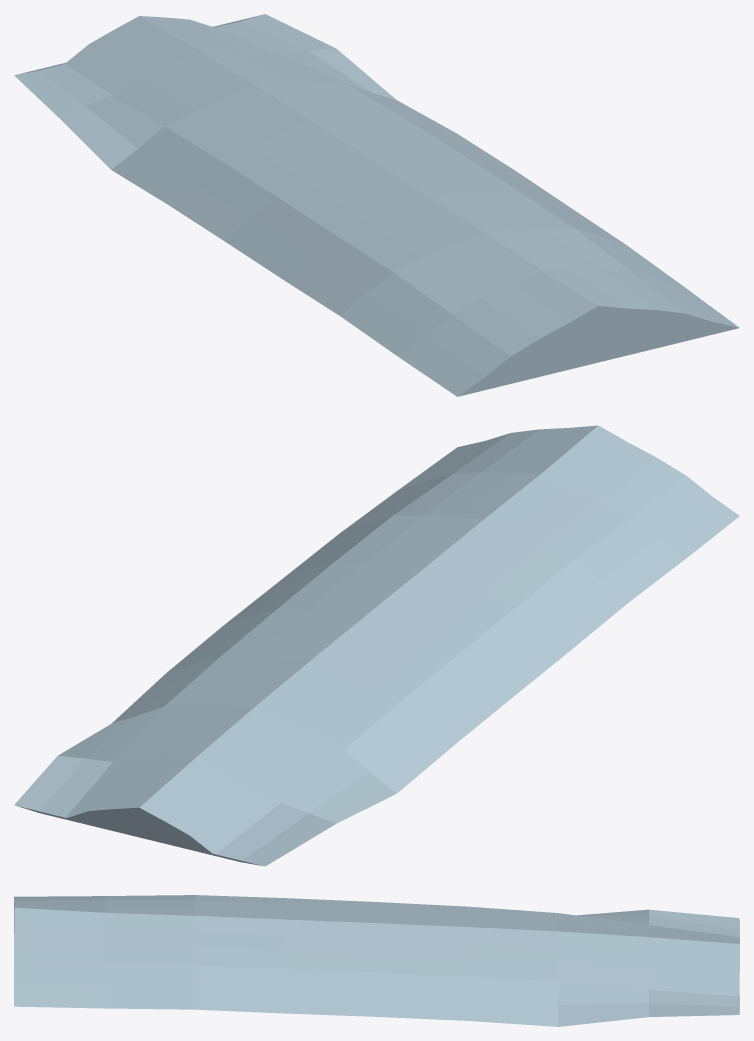
Rendered from su33d_speedbrake.glb.
3 renders of one model, top to bottom at view 1: azimuth 30°, elevation 25°; view 2: azimuth 150°, elevation 25°; view 3: azimuth 270°, elevation 25°, orthographic. The views are drawn at different scales.
Visible parts, largest first — view 1: 0_Speedbrake; view 2: 0_Speedbrake; view 3: 0_Speedbrake.
Boxes of the visible parts, left/top/right/bottom form: 0_Speedbrake: left=14, top=14, right=739, bottom=396; 0_Speedbrake: left=14, top=425, right=739, bottom=866; 0_Speedbrake: left=14, top=895, right=739, bottom=1026.
Bounding box in the file's own units: 0.8763 × 0.2341 × 2.4.
